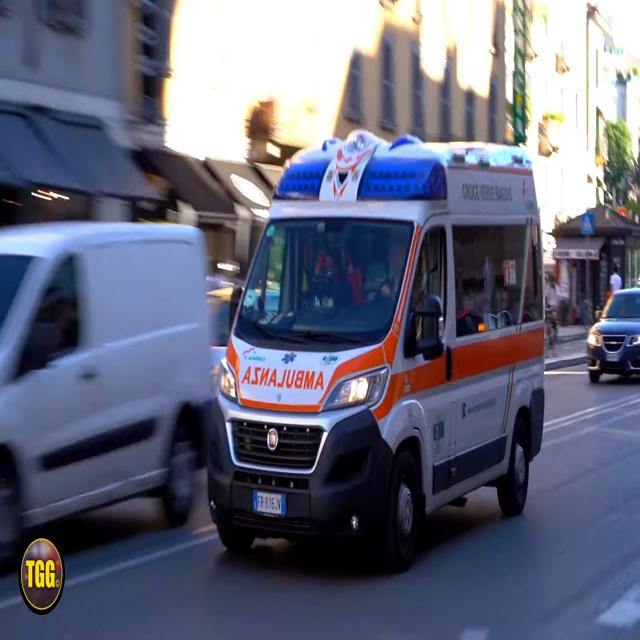emergency-vehicles: (192, 129, 554, 587)
